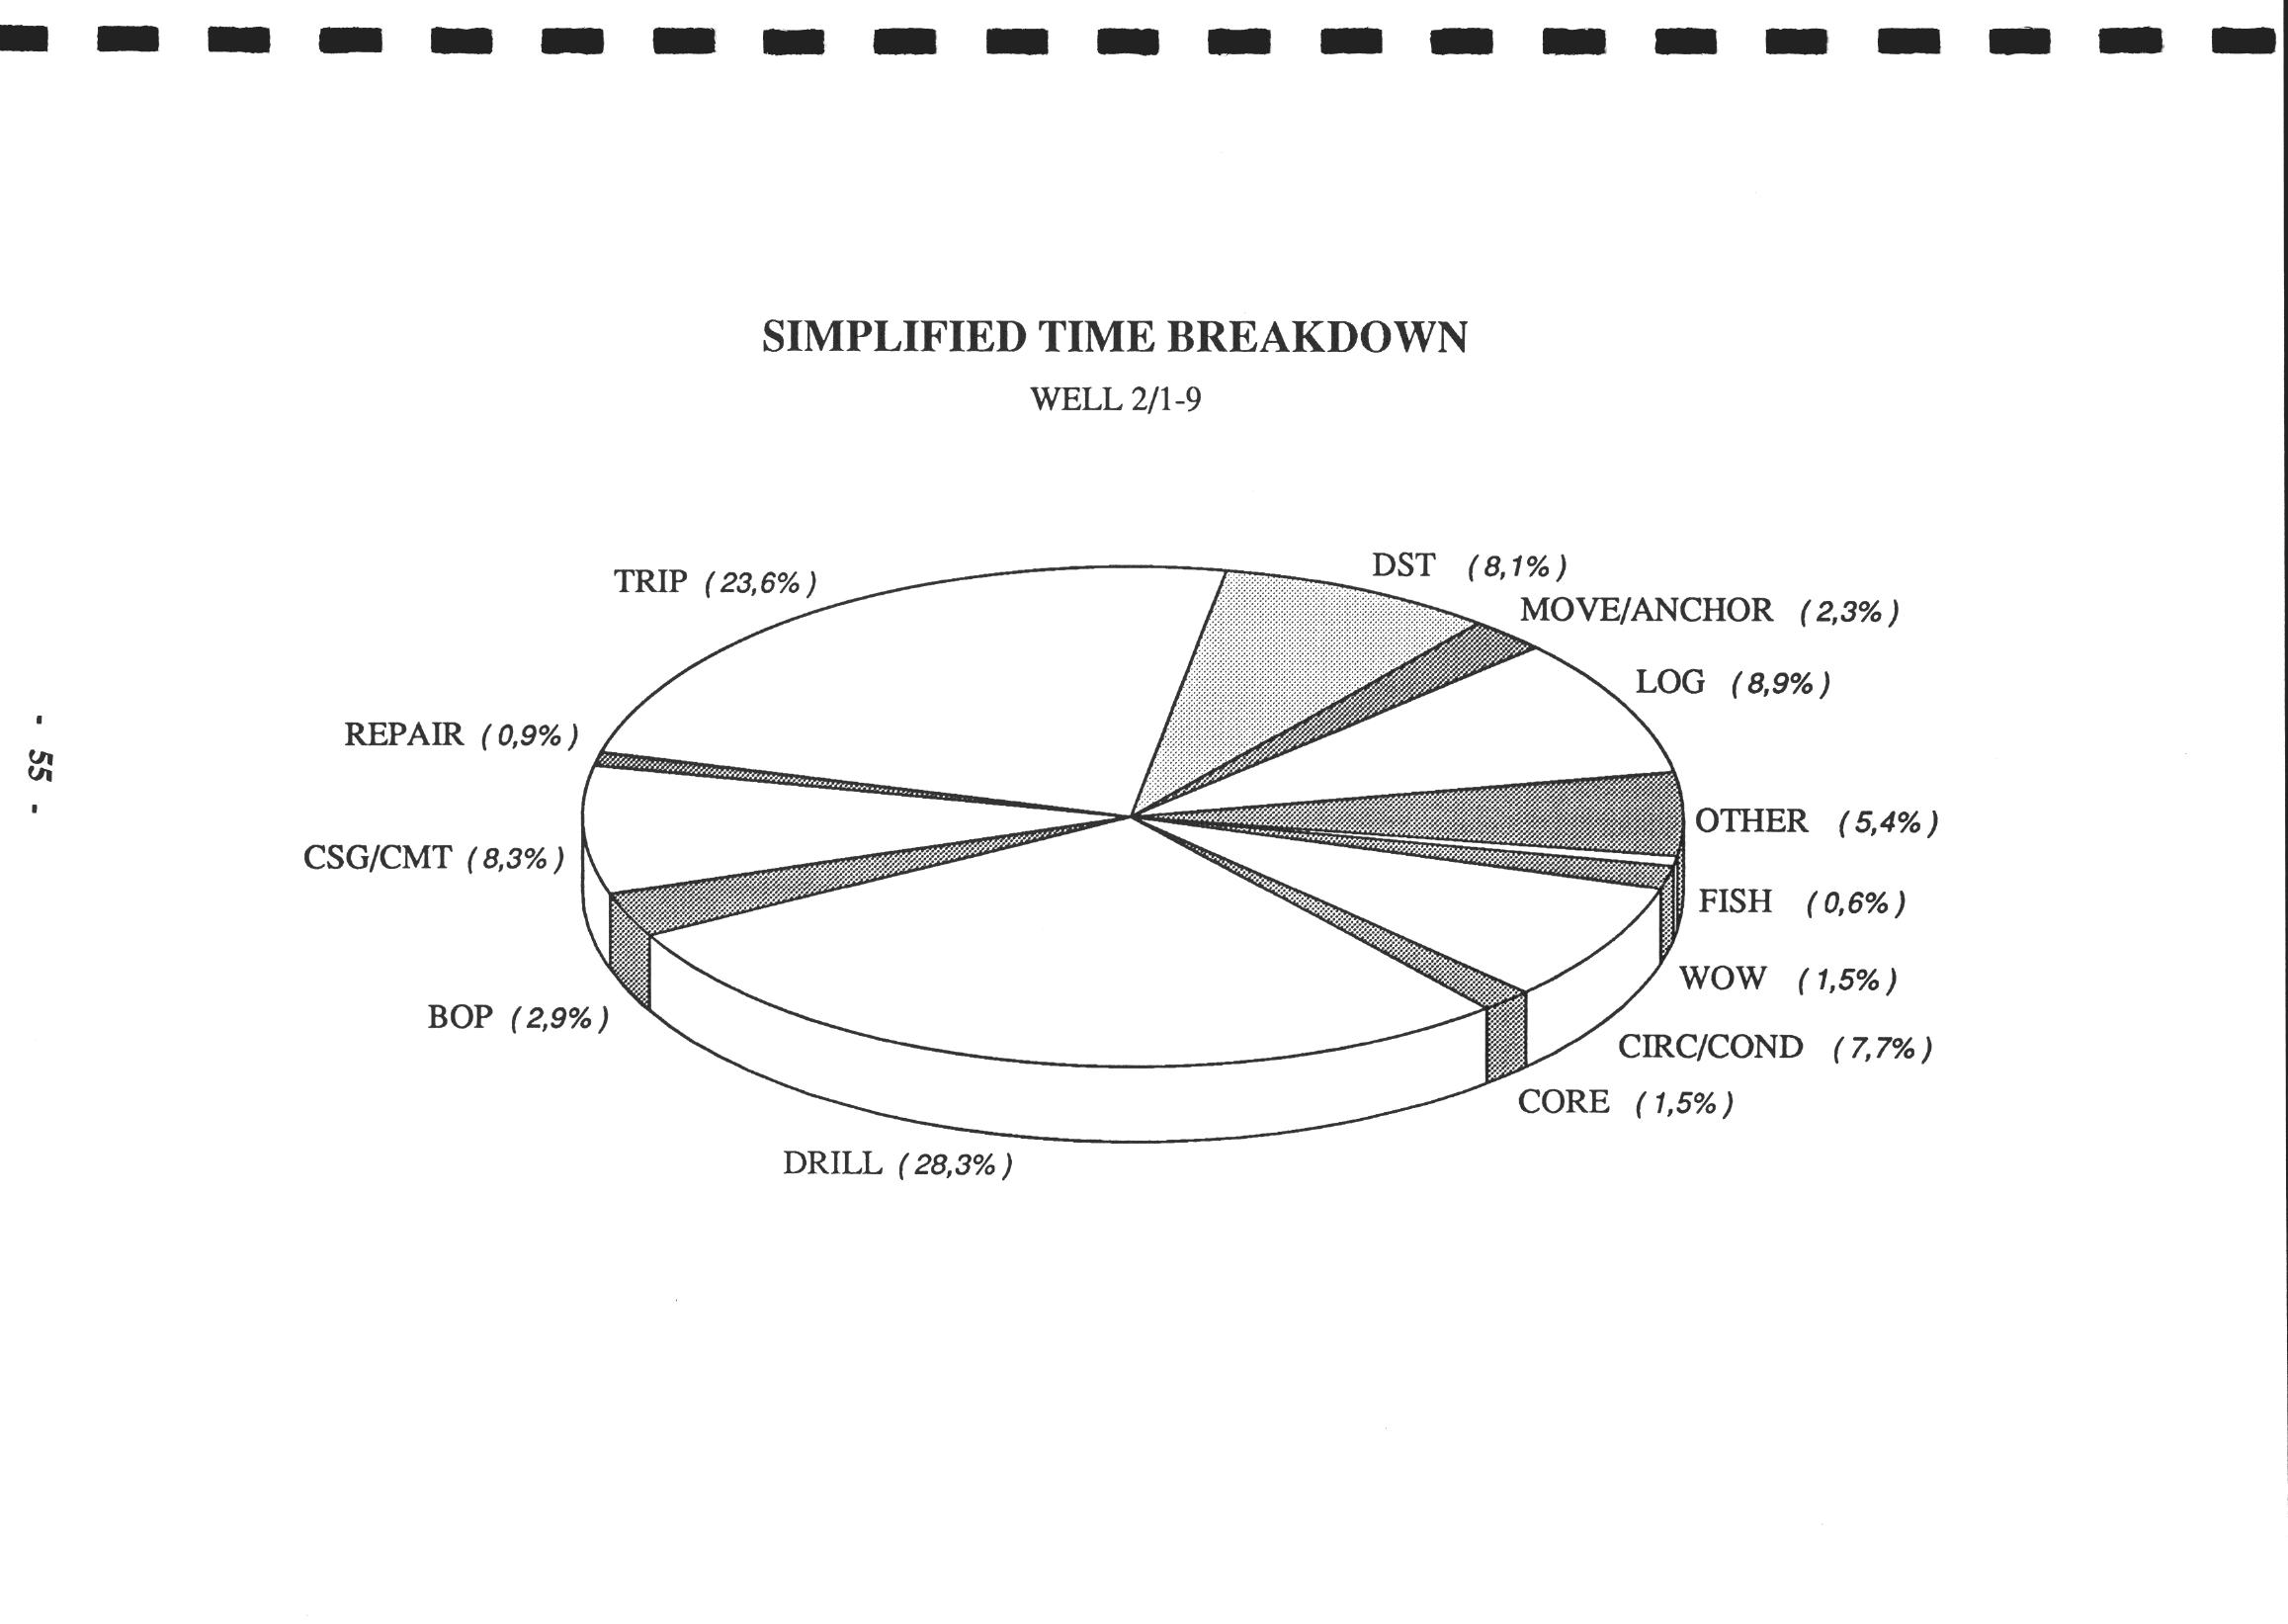graph: (167, 283, 2053, 1269)
